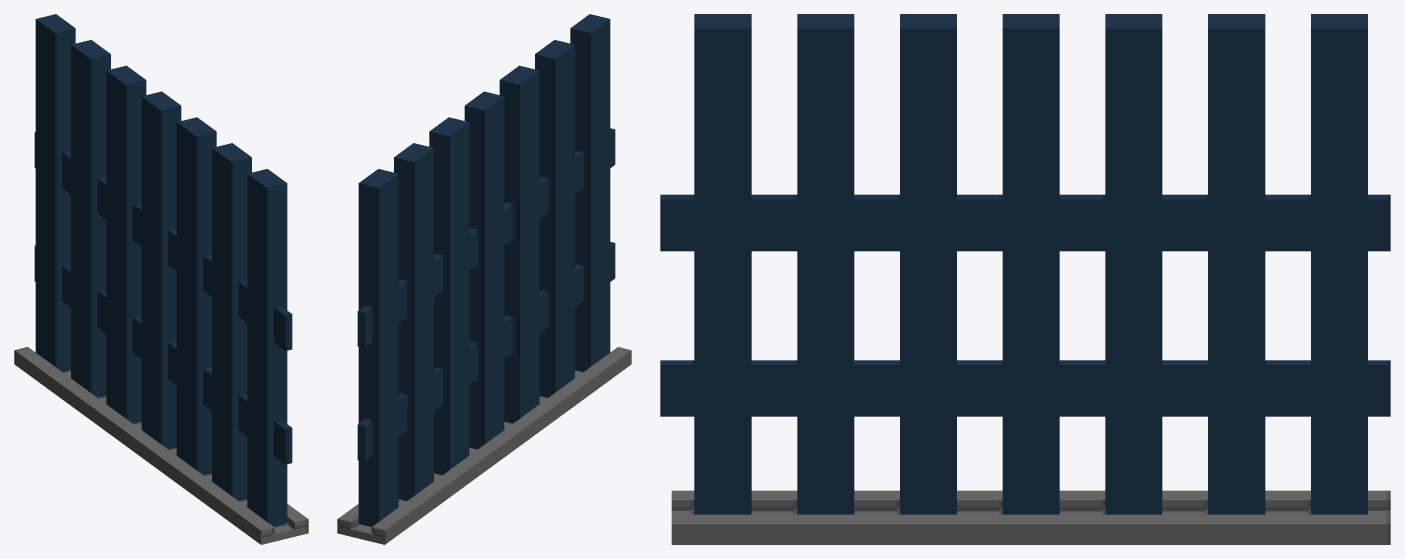
File: plot_sier.dae
3 views of the same model, side by side, from view 1: azimuth 30°, elevation 25°; view 2: azimuth 150°, elevation 25°; view 3: azimuth 270°, elevation 25° (orthographic). The views are drawn at different scales.
Visible parts, largest first — view 1: Content; view 2: Content; view 3: Content.
Boxes of the visible parts, bbox=[...] form: Content: bbox=[14, 14, 308, 544]; Content: bbox=[337, 14, 631, 544]; Content: bbox=[660, 14, 1390, 544].
Bounding box in the file's own units: 7 × 49 × 64.
1 material, 1 textured.
